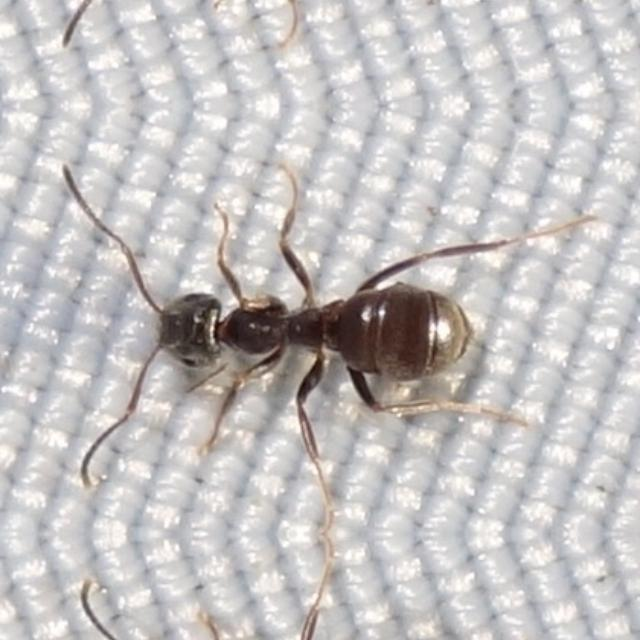Formica: (96, 240, 504, 430)
